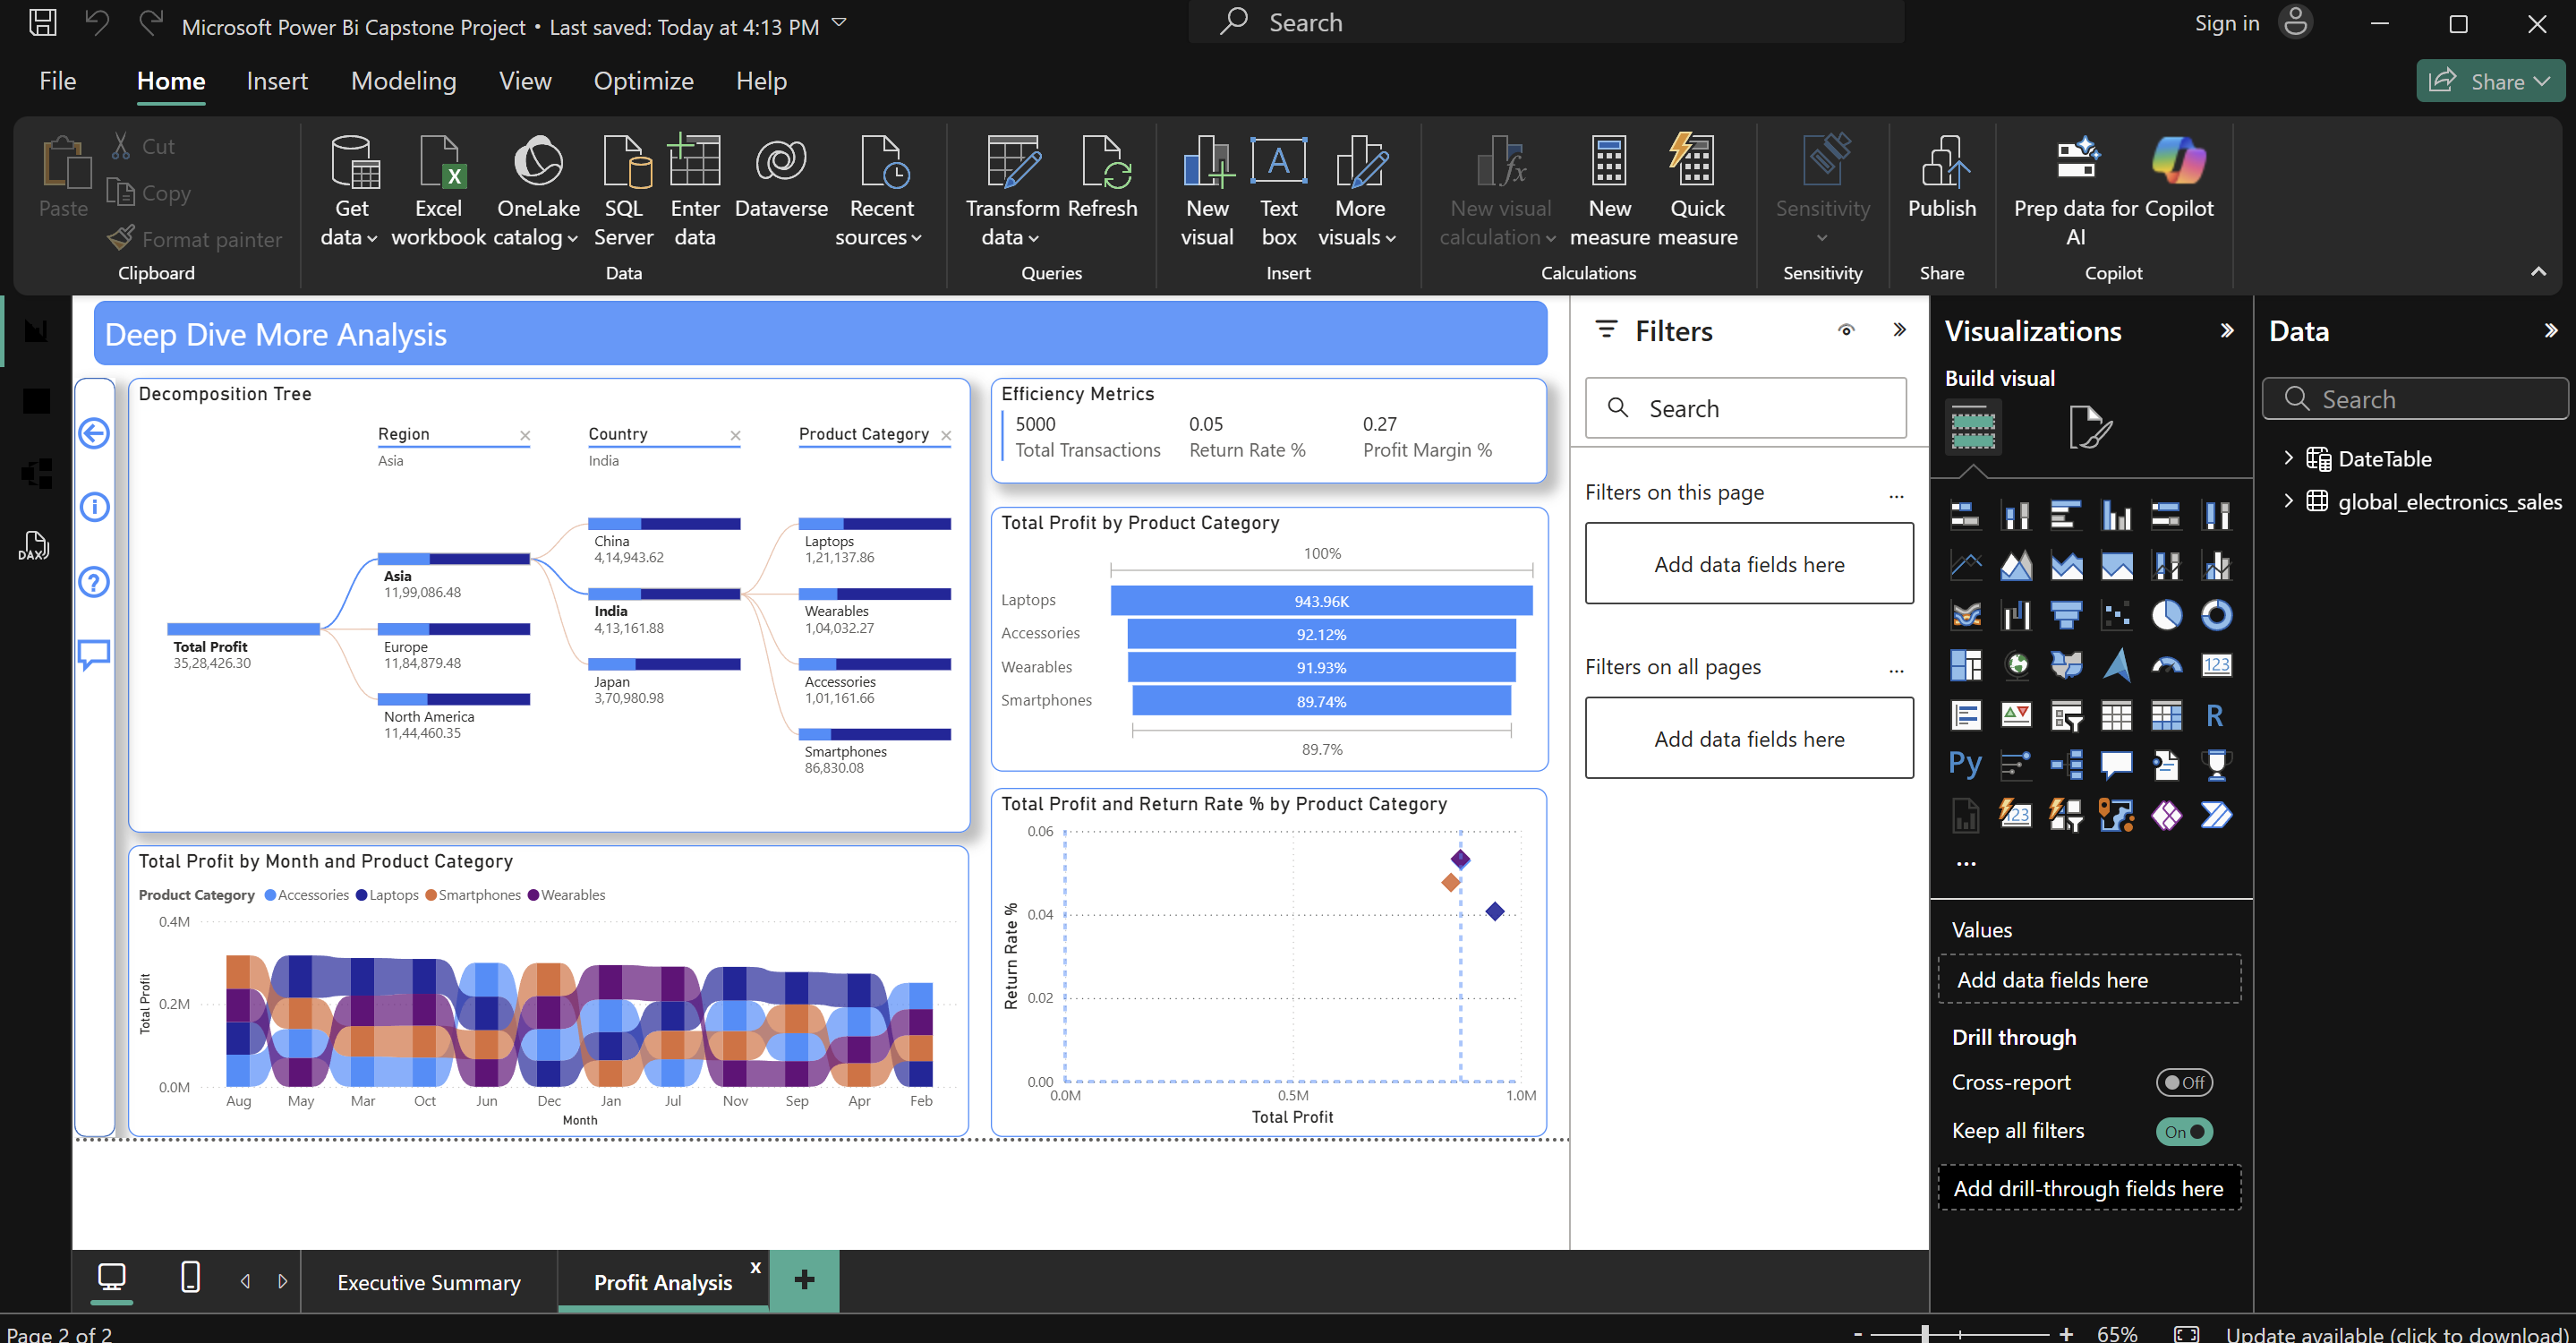

This screenshot's page, from the dashboard's own definition file:
{"tool":"powerbi","page":{"name":"Profit Analysis","canvas":[1280,720],"ordinal":1},"visuals":[{"type":"decompositionTreeVisual","title":"Decomposition Tree","fields":{"Analyze":["DateTable.Total Profit"],"ExplainBy":["global_electronics_sales.Region","global_electronics_sales.Country","global_electronics_sales.Product Category"]},"box":[47.5,70.4,721.1,388.9],"z":0},{"type":"shape","box":[1.5,70.4,35.2,649.2],"z":1000},{"type":"textbox","box":[18.4,4.6,1243.3,55.1],"z":2000},{"type":"scatterChart","fields":{"X":["DateTable.Total Profit"],"Category":["global_electronics_sales.Product Category"],"Y":["DateTable.Return Rate %"]},"box":[785.5,421.1,476.2,298.6],"z":3000},{"type":"actionButton","box":[0,98,36.7,39.8],"z":4000},{"type":"actionButton","box":[1.5,160.8,35.2,39.8],"z":5000},{"type":"actionButton","box":[0,225.1,36.7,39.8],"z":6000},{"type":"actionButton","box":[0,287.8,36.7,39.8],"z":7000},{"type":"ribbonChart","fields":{"Category":["DateTable.Month"],"Y":["DateTable.Total Profit"],"Series":["global_electronics_sales.Product Category"]},"box":[47.5,470,719.6,249.6],"z":8000},{"type":"multiRowCard","title":"Efficiency Metrics","fields":{"Values":["DateTable.Total Transactions","DateTable.Return Rate %","DateTable.Profit Margin %"]},"box":[785.5,70.4,476.2,90.3],"z":9000},{"type":"funnel","fields":{"Category":["global_electronics_sales.Product Category"],"Y":["DateTable.Total Profit"]},"box":[785.5,180.7,477.7,226.6],"z":10000}]}

Visuals, with their boxes on the page's 1280x720 design canvas (x1, y1, x2, y2). These are canvas units, not pixel positions in the 2576x1343 screenshot, which may show the page scaled, cropped or inside an application window:
"Decomposition Tree" decompositionTreeVisual: locate(48, 70, 769, 459)
shape: locate(2, 70, 37, 720)
textbox: locate(18, 5, 1262, 60)
scatterChart - DateTable.Total Profit x global_electronics_sales.Product Category: locate(786, 421, 1262, 720)
actionButton: locate(0, 98, 37, 138)
actionButton: locate(2, 161, 37, 201)
actionButton: locate(0, 225, 37, 265)
actionButton: locate(0, 288, 37, 328)
ribbonChart - DateTable.Month x DateTable.Total Profit: locate(48, 470, 767, 720)
"Efficiency Metrics" multiRowCard: locate(786, 70, 1262, 161)
funnel - global_electronics_sales.Product Category x DateTable.Total Profit: locate(786, 181, 1263, 407)
